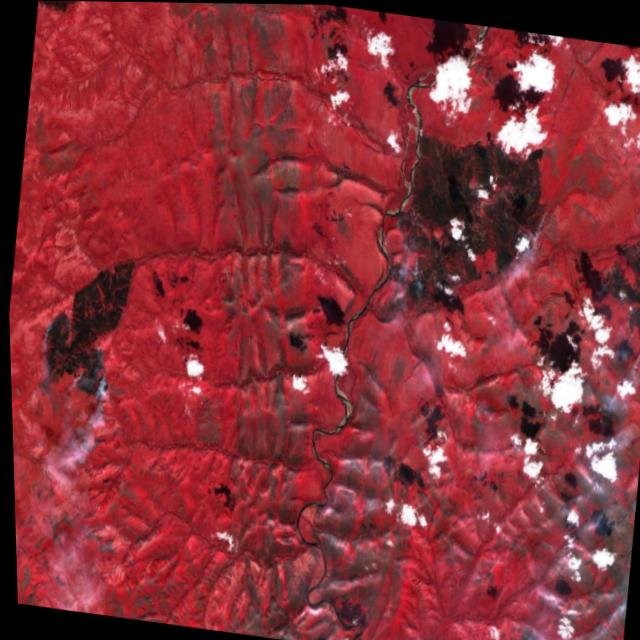fire: (19, 309, 118, 405), (508, 186, 556, 268), (394, 232, 429, 286)
